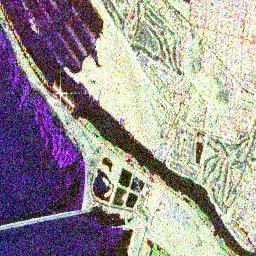Ship: (54, 87, 67, 101)
